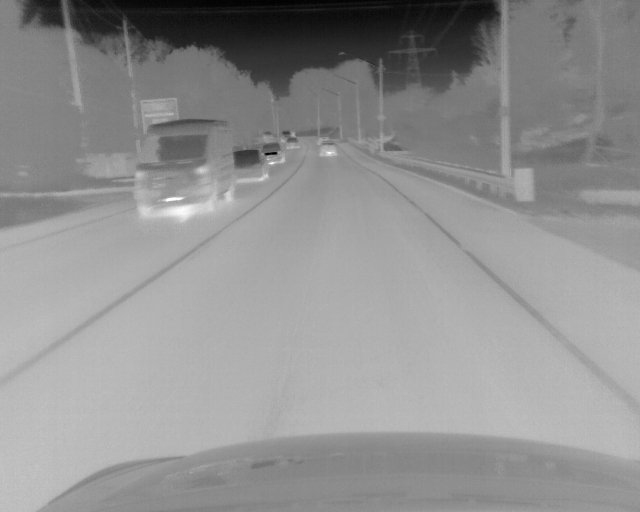car: (131, 118, 236, 220), (232, 149, 267, 182), (263, 142, 286, 166), (318, 142, 336, 158), (261, 130, 275, 144), (285, 137, 299, 150), (280, 130, 296, 139)
